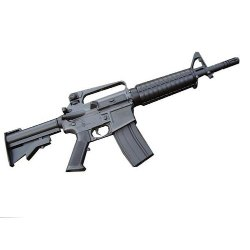rifle: (1, 53, 242, 201)
